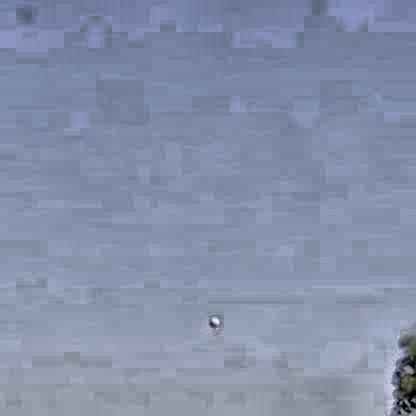golfball: (206, 315, 217, 326)
